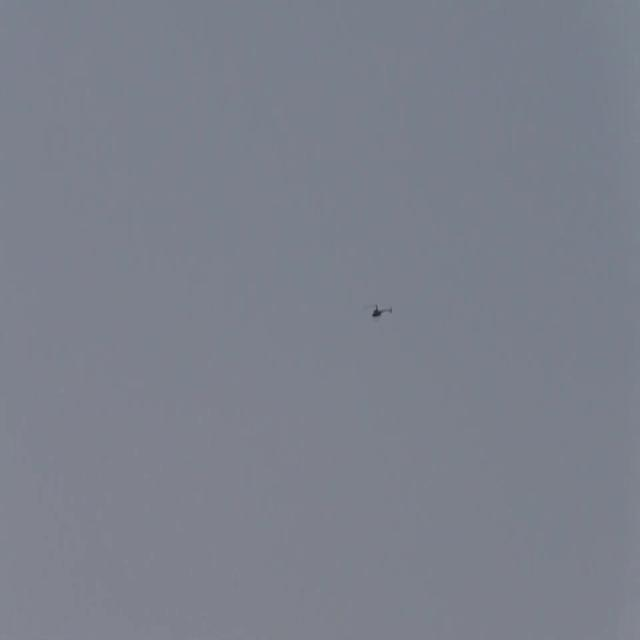CIV_HELO: (371, 303, 393, 319)
